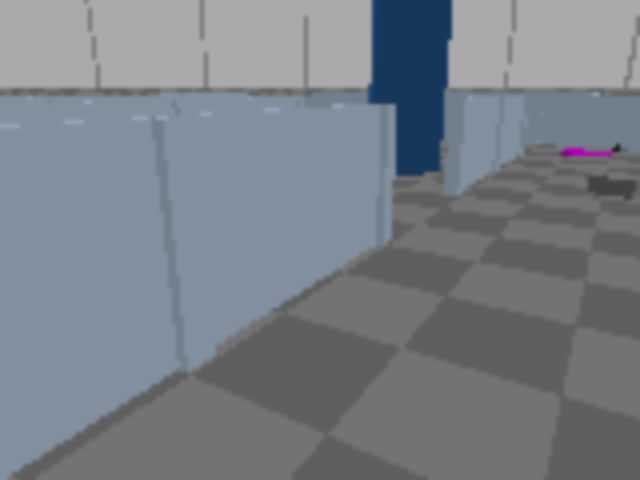goal_zone: (560, 149, 612, 157)
obstacle: (586, 173, 638, 200)
